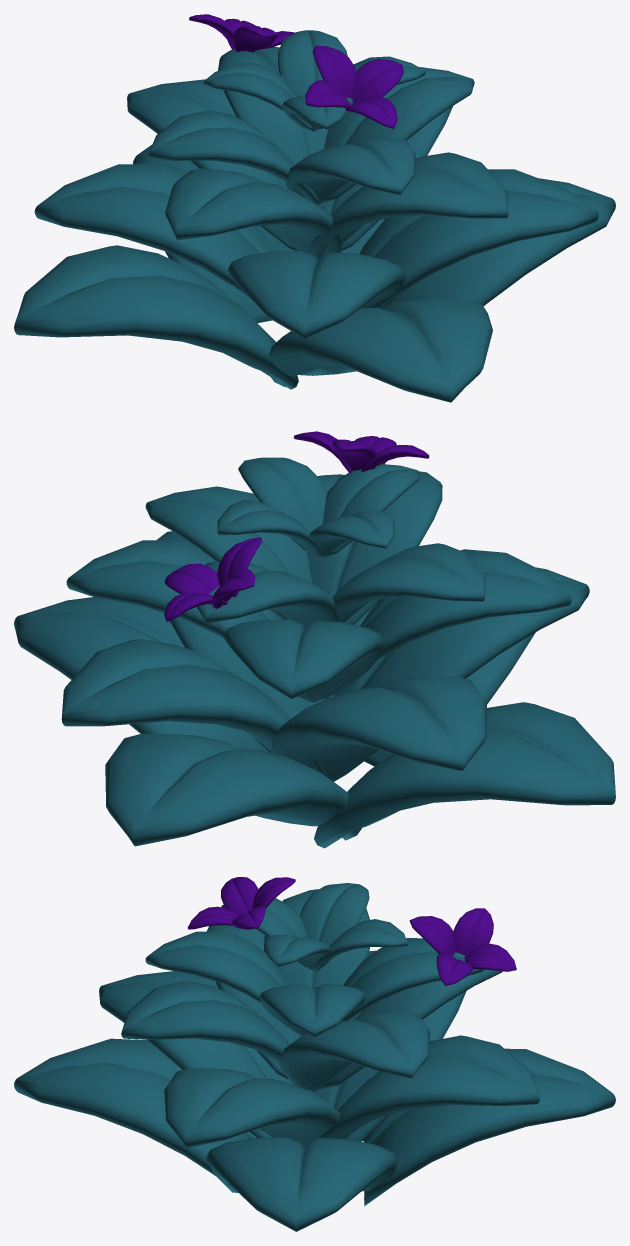
File: LargeHealth.FBX
3 views of the same model, one above another, from view 1: azimuth 30°, elevation 25°; view 2: azimuth 150°, elevation 25°; view 3: azimuth 270°, elevation 25° (orthographic). The views are drawn at different scales.
Visible parts, largest first — view 1: Box012, Box015, Box016; view 2: Box012, Box016, Box015; view 3: Box012, Box016, Box015.
Boxes of the visible parts, <box> form: Box012: <box>14,30,615,402</box>; Box015: <box>305,45,403,128</box>; Box016: <box>189,14,294,52</box>; Box012: <box>14,457,615,848</box>; Box016: <box>164,537,261,621</box>; Box015: <box>293,431,429,472</box>; Box012: <box>14,883,615,1231</box>; Box016: <box>409,908,516,985</box>; Box015: <box>187,877,295,929</box>.
Size of the model in its own units: 3.93 by 2.1 by 3.9.
